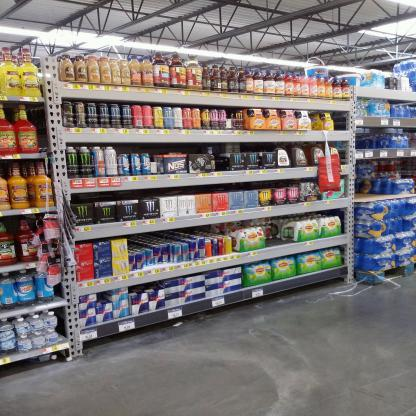Void: (116, 142, 205, 153), (263, 227, 294, 246), (335, 110, 349, 131), (244, 143, 276, 150), (130, 285, 164, 290), (97, 294, 111, 300)
